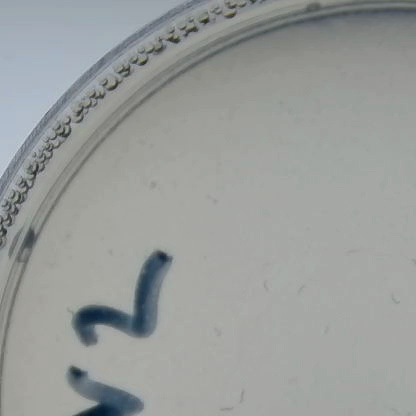worm: (383, 289, 407, 313), (258, 272, 275, 301), (289, 279, 309, 303), (238, 383, 255, 404), (203, 191, 224, 207), (388, 401, 409, 416), (216, 403, 238, 416), (341, 248, 363, 259), (208, 325, 223, 341), (61, 300, 76, 313)
